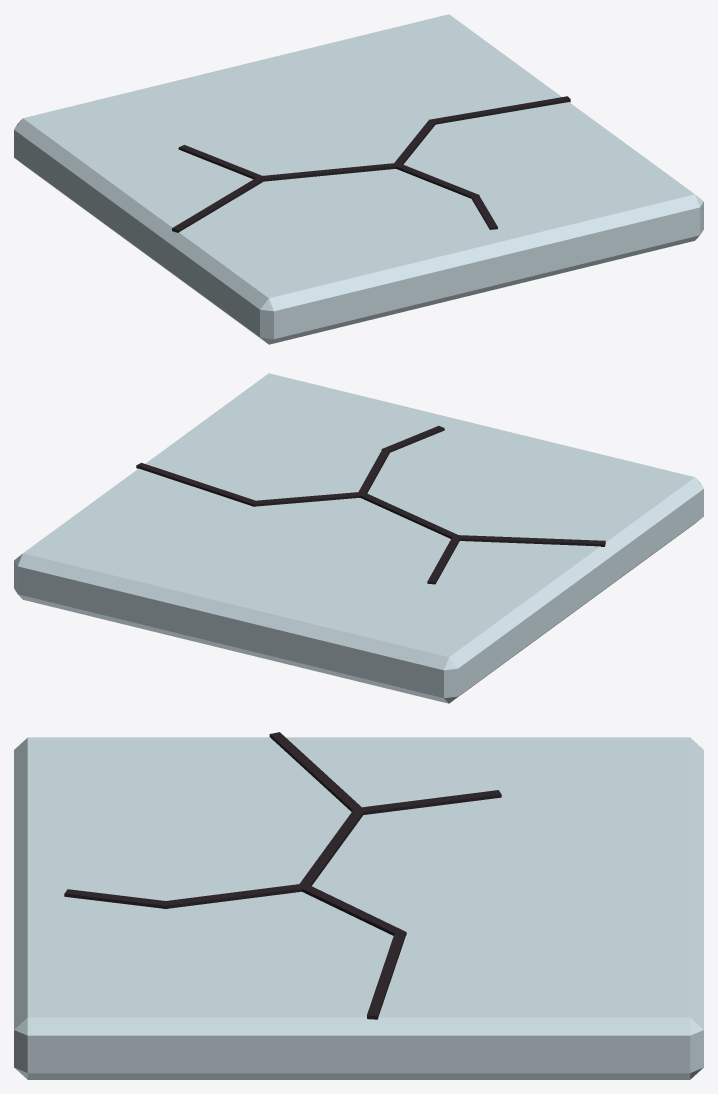
The model's file is sb_cracked_ice_1.glb.
The picture shows the model from 3 angles, top to bottom: view 1: azimuth 30°, elevation 25°; view 2: azimuth 150°, elevation 25°; view 3: azimuth 270°, elevation 25°; orthographic projection. The views are drawn at different scales.
Parts seen in each view (by area): view 1: cracked_ice_1; view 2: cracked_ice_1; view 3: cracked_ice_1.
Boxes of the visible parts, x1,y1,x2,y2 form: cracked_ice_1: (14,14,703,344); cracked_ice_1: (14,373,703,703); cracked_ice_1: (14,732,703,1079).
Bounding box in the file's own units: 1 × 0.105 × 1.
